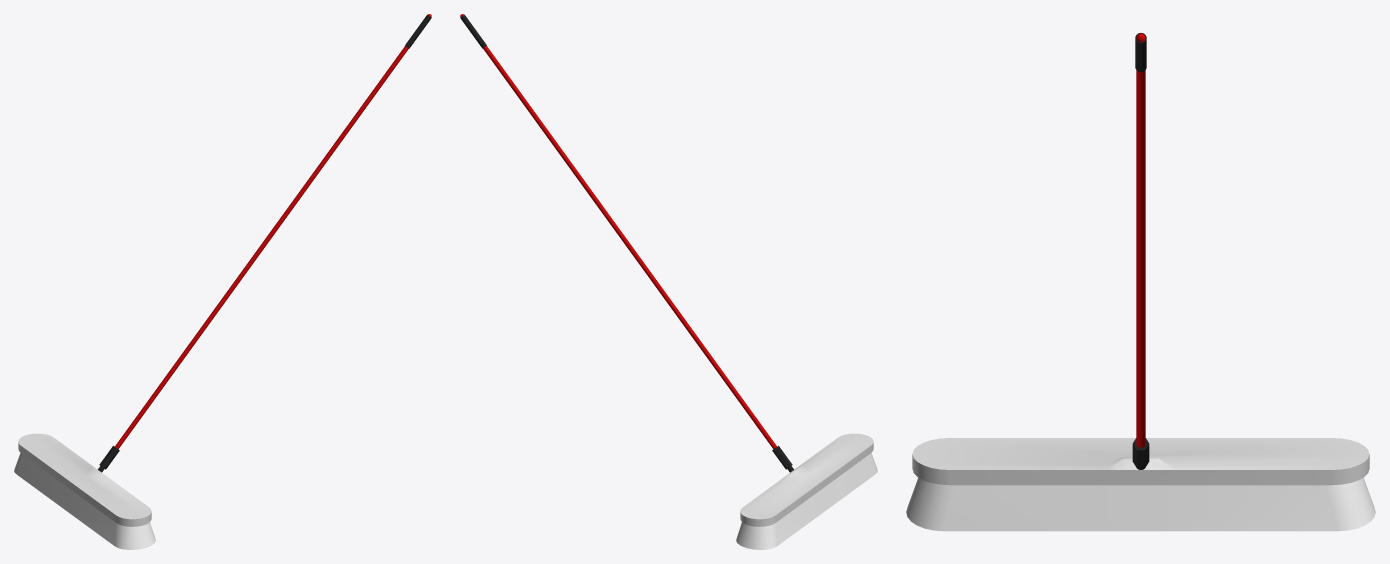
3 views of the same model, side by side, from view 1: azimuth 30°, elevation 25°; view 2: azimuth 150°, elevation 25°; view 3: azimuth 270°, elevation 25° (orthographic). The views are drawn at different scales.
Parts seen in each view (by area): view 1: Handle_001, Component#1_001, Component#1_002, bristles_001, bristles_002; view 2: Handle_001, Component#1_002, Component#1_001, bristles_002, bristles_001; view 3: bristles_002, bristles_001, Component#1_002, Component#1_001, Handle_001.
Boxes of the visible parts, bbox=[...] form: Handle_001: bbox=[98, 14, 431, 472]; Component#1_001: bbox=[68, 470, 151, 526]; Component#1_002: bbox=[18, 433, 97, 487]; bristles_001: bbox=[65, 489, 155, 549]; bristles_002: bbox=[14, 453, 69, 509]; Handle_001: bbox=[460, 14, 793, 472]; Component#1_002: bbox=[740, 470, 823, 526]; Component#1_001: bbox=[794, 433, 873, 487]; bristles_002: bbox=[736, 489, 826, 549]; bristles_001: bbox=[822, 453, 877, 509]; bristles_002: bbox=[1141, 478, 1375, 531]; bristles_001: bbox=[906, 478, 1140, 531]; Component#1_002: bbox=[1141, 438, 1369, 485]; Component#1_001: bbox=[912, 438, 1140, 485]; Handle_001: bbox=[1132, 33, 1149, 469].
Size of the model in its own units: 1127 by 1199 by 626.
